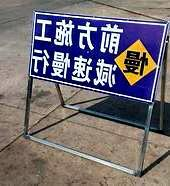sign: (30, 13, 161, 96)
